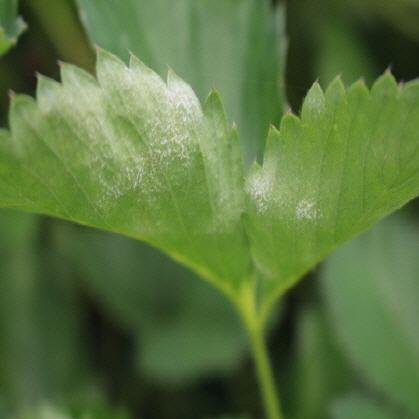Powdery Mildew Leaf: (0, 43, 255, 308), (240, 63, 418, 312)
